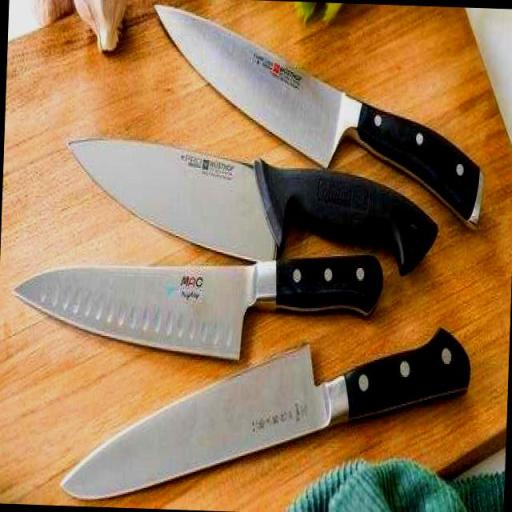knife: (5, 5, 502, 512)
